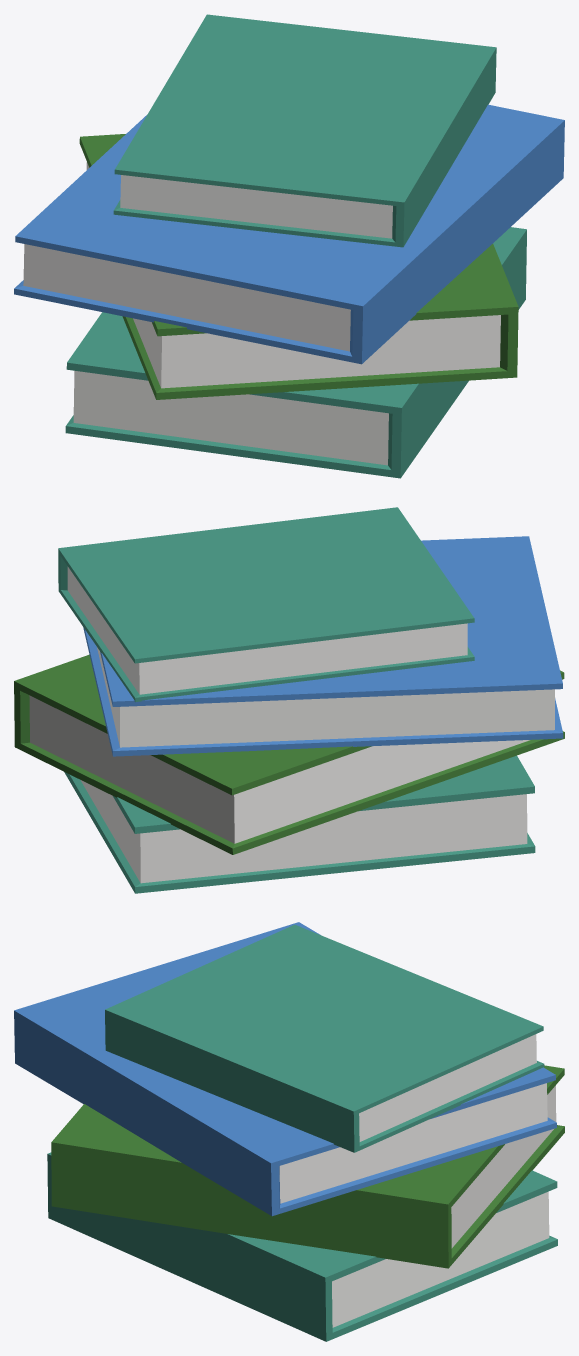
Rendered from Books_9.fbx.
3 views of the same model, one above another, from view 1: azimuth 30°, elevation 25°; view 2: azimuth 150°, elevation 25°; view 3: azimuth 270°, elevation 25° (orthographic). The views are drawn at different scales.
Parts seen in each view (by area): view 1: Books_9; view 2: Books_9; view 3: Books_9.
Part boxes in pixels (box(x1,y1,x2,y2)): Books_9: box(14, 14, 564, 478); Books_9: box(14, 507, 564, 893); Books_9: box(14, 922, 564, 1341).
Bounding box in the file's own units: 42.4 × 41.33 × 18.72.
